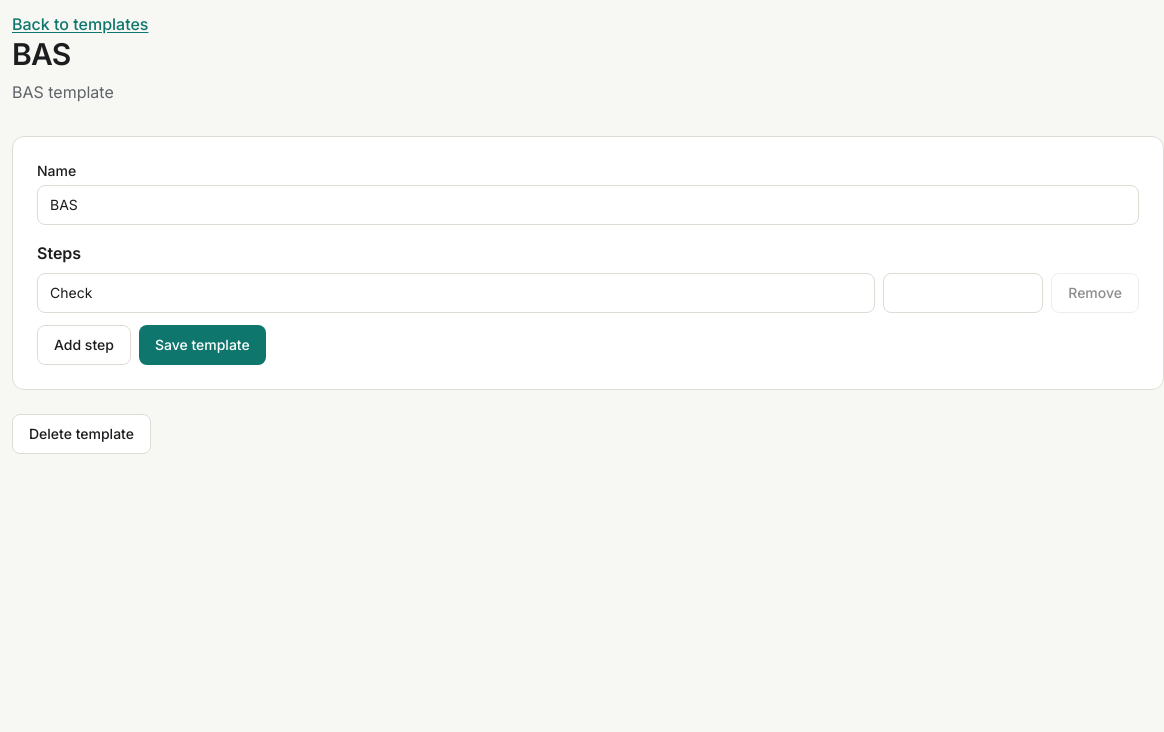
Test: Engagement pages (W1) › EP12 editing a template
Expected: the button with aria-label "Remove step 1" is disabled, [1051, 273, 1139, 313]
Click the button "Add step": (84,345) [37, 325, 131, 365]
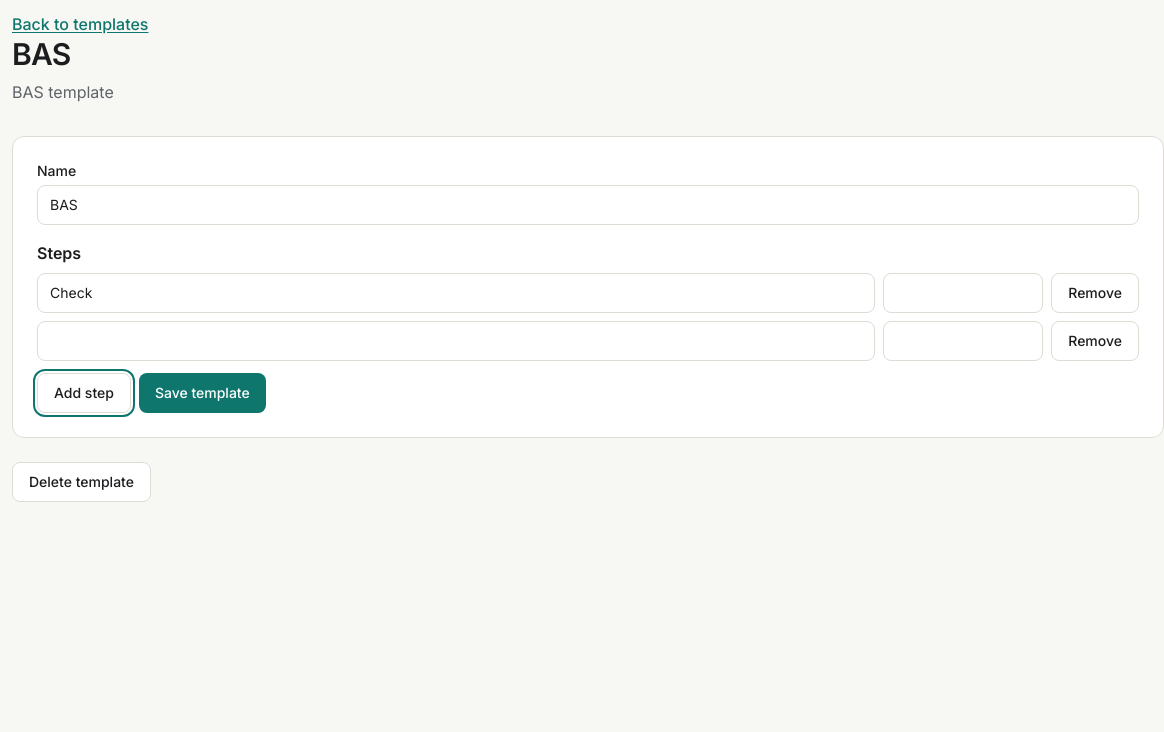
In the field named "Step 2": (456,341) [37, 321, 875, 361], type "Lodge"
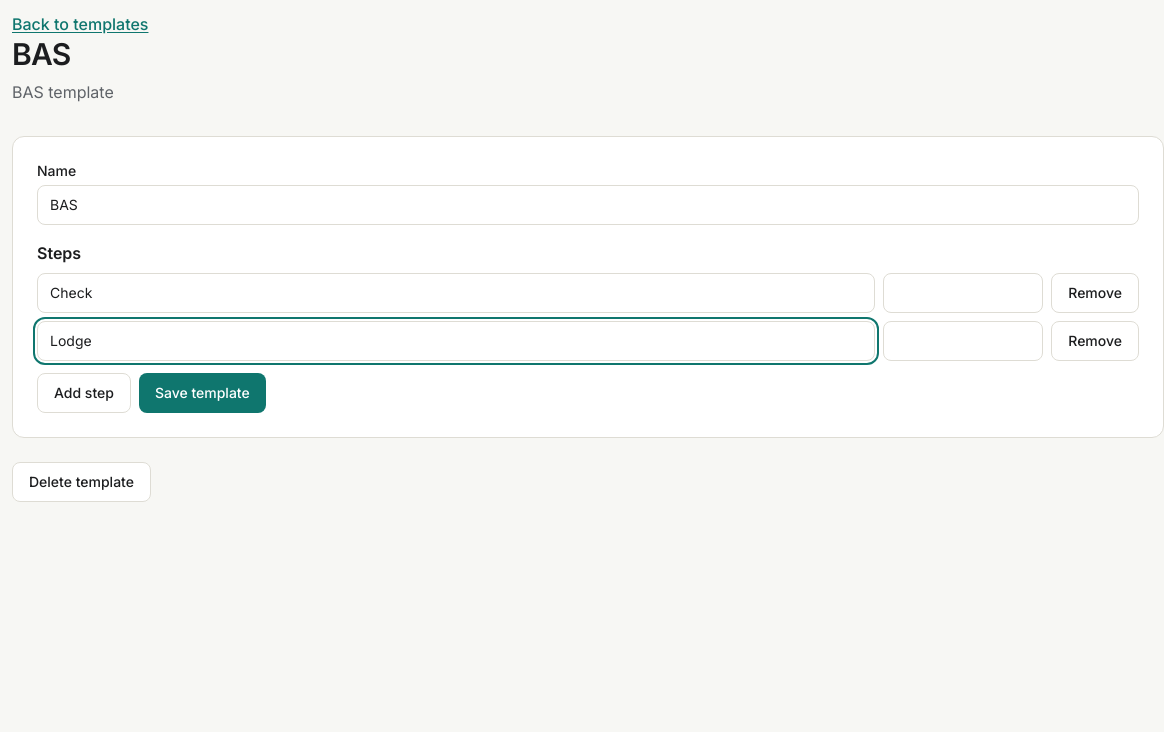
In the number field named "Estimate in minutes for step 2": (963,341) [883, 321, 1043, 361], type "30"
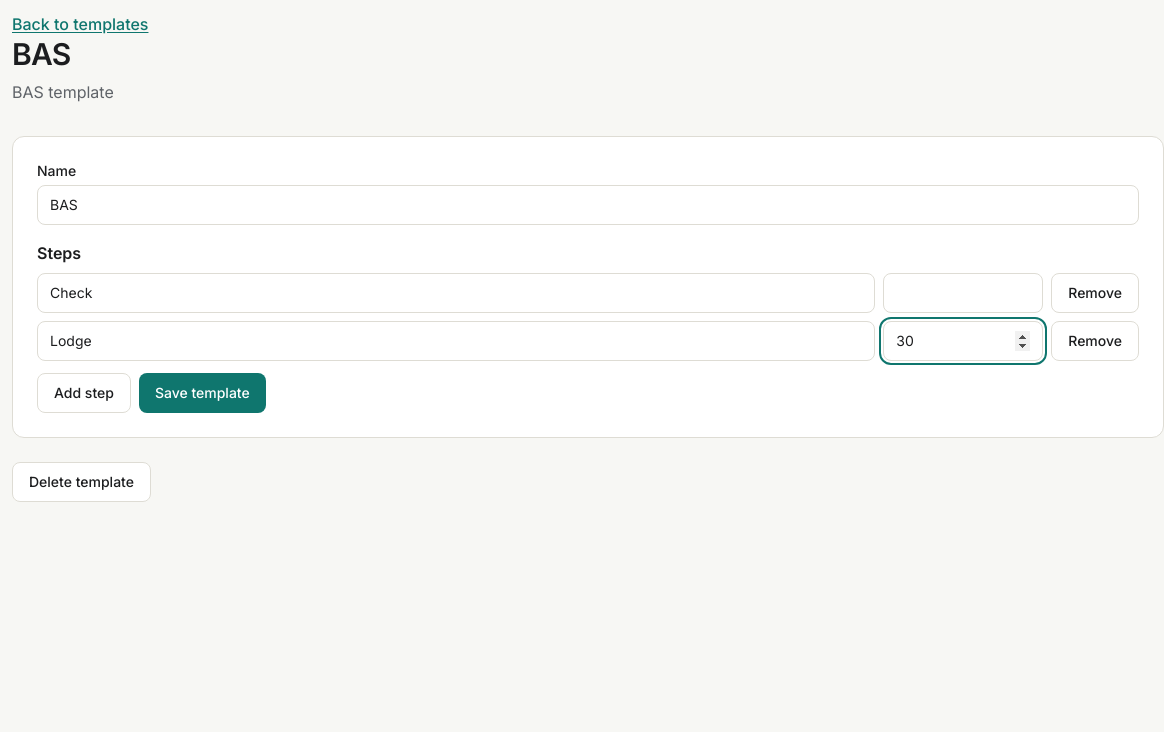
Click the button "Save template": (202,393) [139, 373, 266, 413]
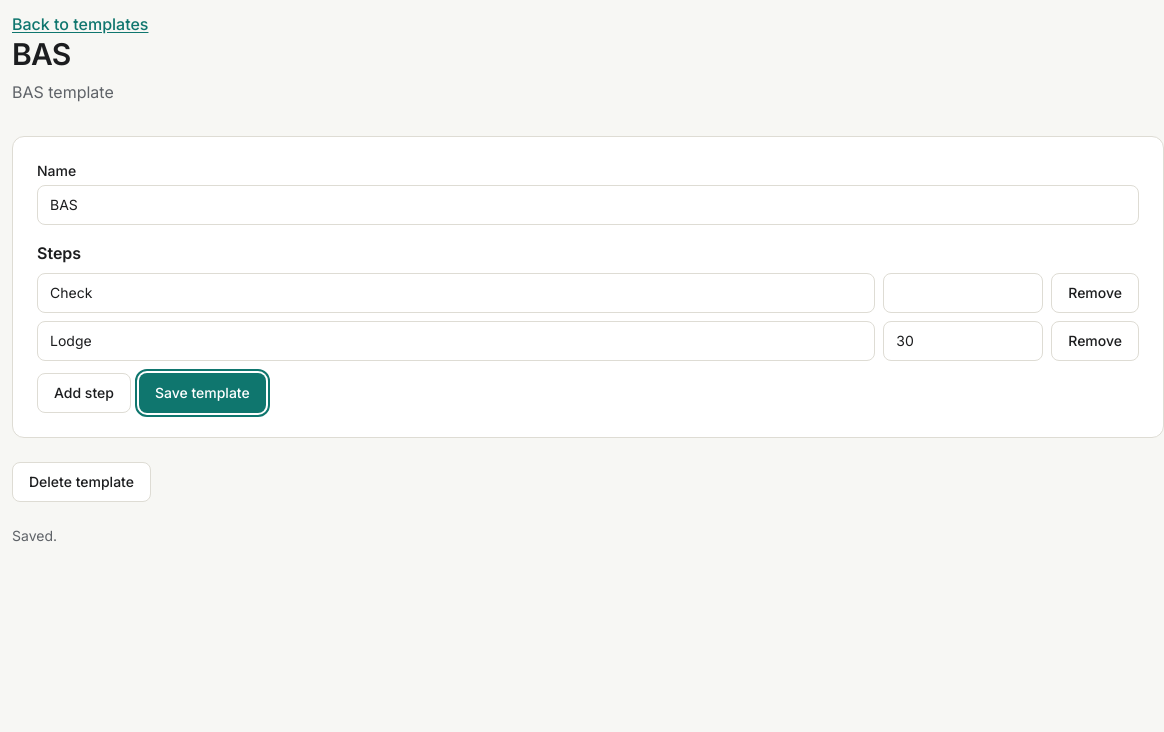
Expected: the text "Saved." is shown, [12, 527, 57, 544]
